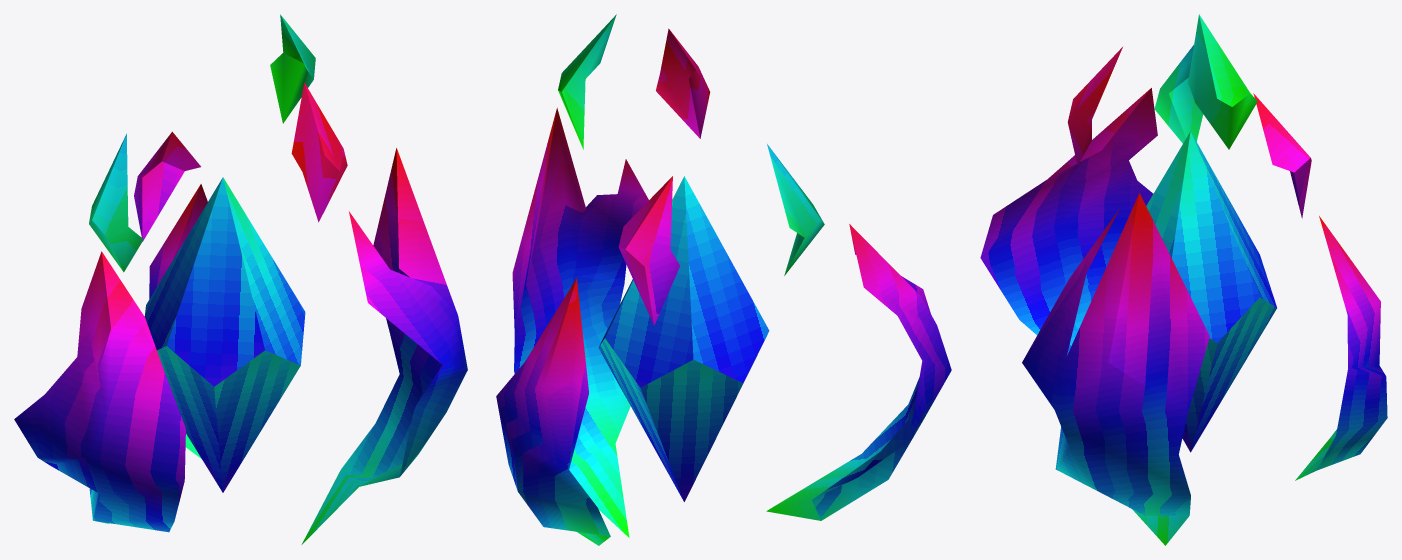
Rendered from proud_soul_trapezohedron.obj.
The picture shows the model from 3 angles, left to right: view 1: azimuth 30°, elevation 25°; view 2: azimuth 150°, elevation 25°; view 3: azimuth 270°, elevation 25°; orthographic projection. The views are drawn at different scales.
Parts seen in each view (by area): view 1: obj9, obj8, Crystal, obj5, obj1, obj2, CrystalSet, background, CrystalBase, fireFront, obj3, TrapezohedronSet; view 2: obj9, obj8, obj4, TrapezohedronBase1, obj1, TrapezohedronBase, obj7, fireBack, Crystal, CrystalCore, fireFront, obj2 (+4 smaller); view 3: obj9, obj1, obj4, obj8, TrapezohedronSet, CrystalBase1, obj6, fireFront, Crystal, SphereBase, CrystalCore, obj3 (+4 smaller).
Boxes of the visible parts, x1,y1,x2,y2 form: obj9: (14,20,467,544); obj8: (396,148,457,314); Crystal: (349,211,442,364); obj5: (92,133,128,239); obj1: (373,148,408,332); obj2: (142,161,184,241); CrystalSet: (291,83,324,171); background: (302,156,339,221); CrystalBase: (270,52,304,123); fireFront: (304,83,343,170); obj3: (109,227,143,271); TrapezohedronSet: (162,132,200,170); obj9: (496,17,951,545); obj8: (535,107,586,241); obj4: (515,227,569,334); TrapezohedronBase1: (625,176,672,266); obj1: (512,109,556,334); TrapezohedronBase: (767,144,820,237); obj7: (645,250,679,325); fireBack: (656,73,700,138); Crystal: (617,159,648,225); CrystalCore: (561,76,585,149); fireFront: (660,29,695,78); obj2: (618,247,653,324); obj9: (980,18,1387,545); obj1: (1108,193,1209,411); obj4: (1055,357,1187,412); obj8: (1067,193,1139,362); TrapezohedronSet: (1253,93,1310,172); CrystalBase1: (1199,14,1249,106); obj6: (1188,14,1216,102); fireFront: (1068,47,1122,121); Crystal: (1022,208,1119,361); SphereBase: (1169,77,1203,141); CrystalCore: (1196,98,1232,149); obj3: (1154,89,1185,143).
Bounding box in the file's own units: 1.2 × 1.47 × 1.02.
